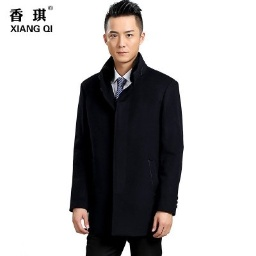face: (103, 1, 144, 62)
